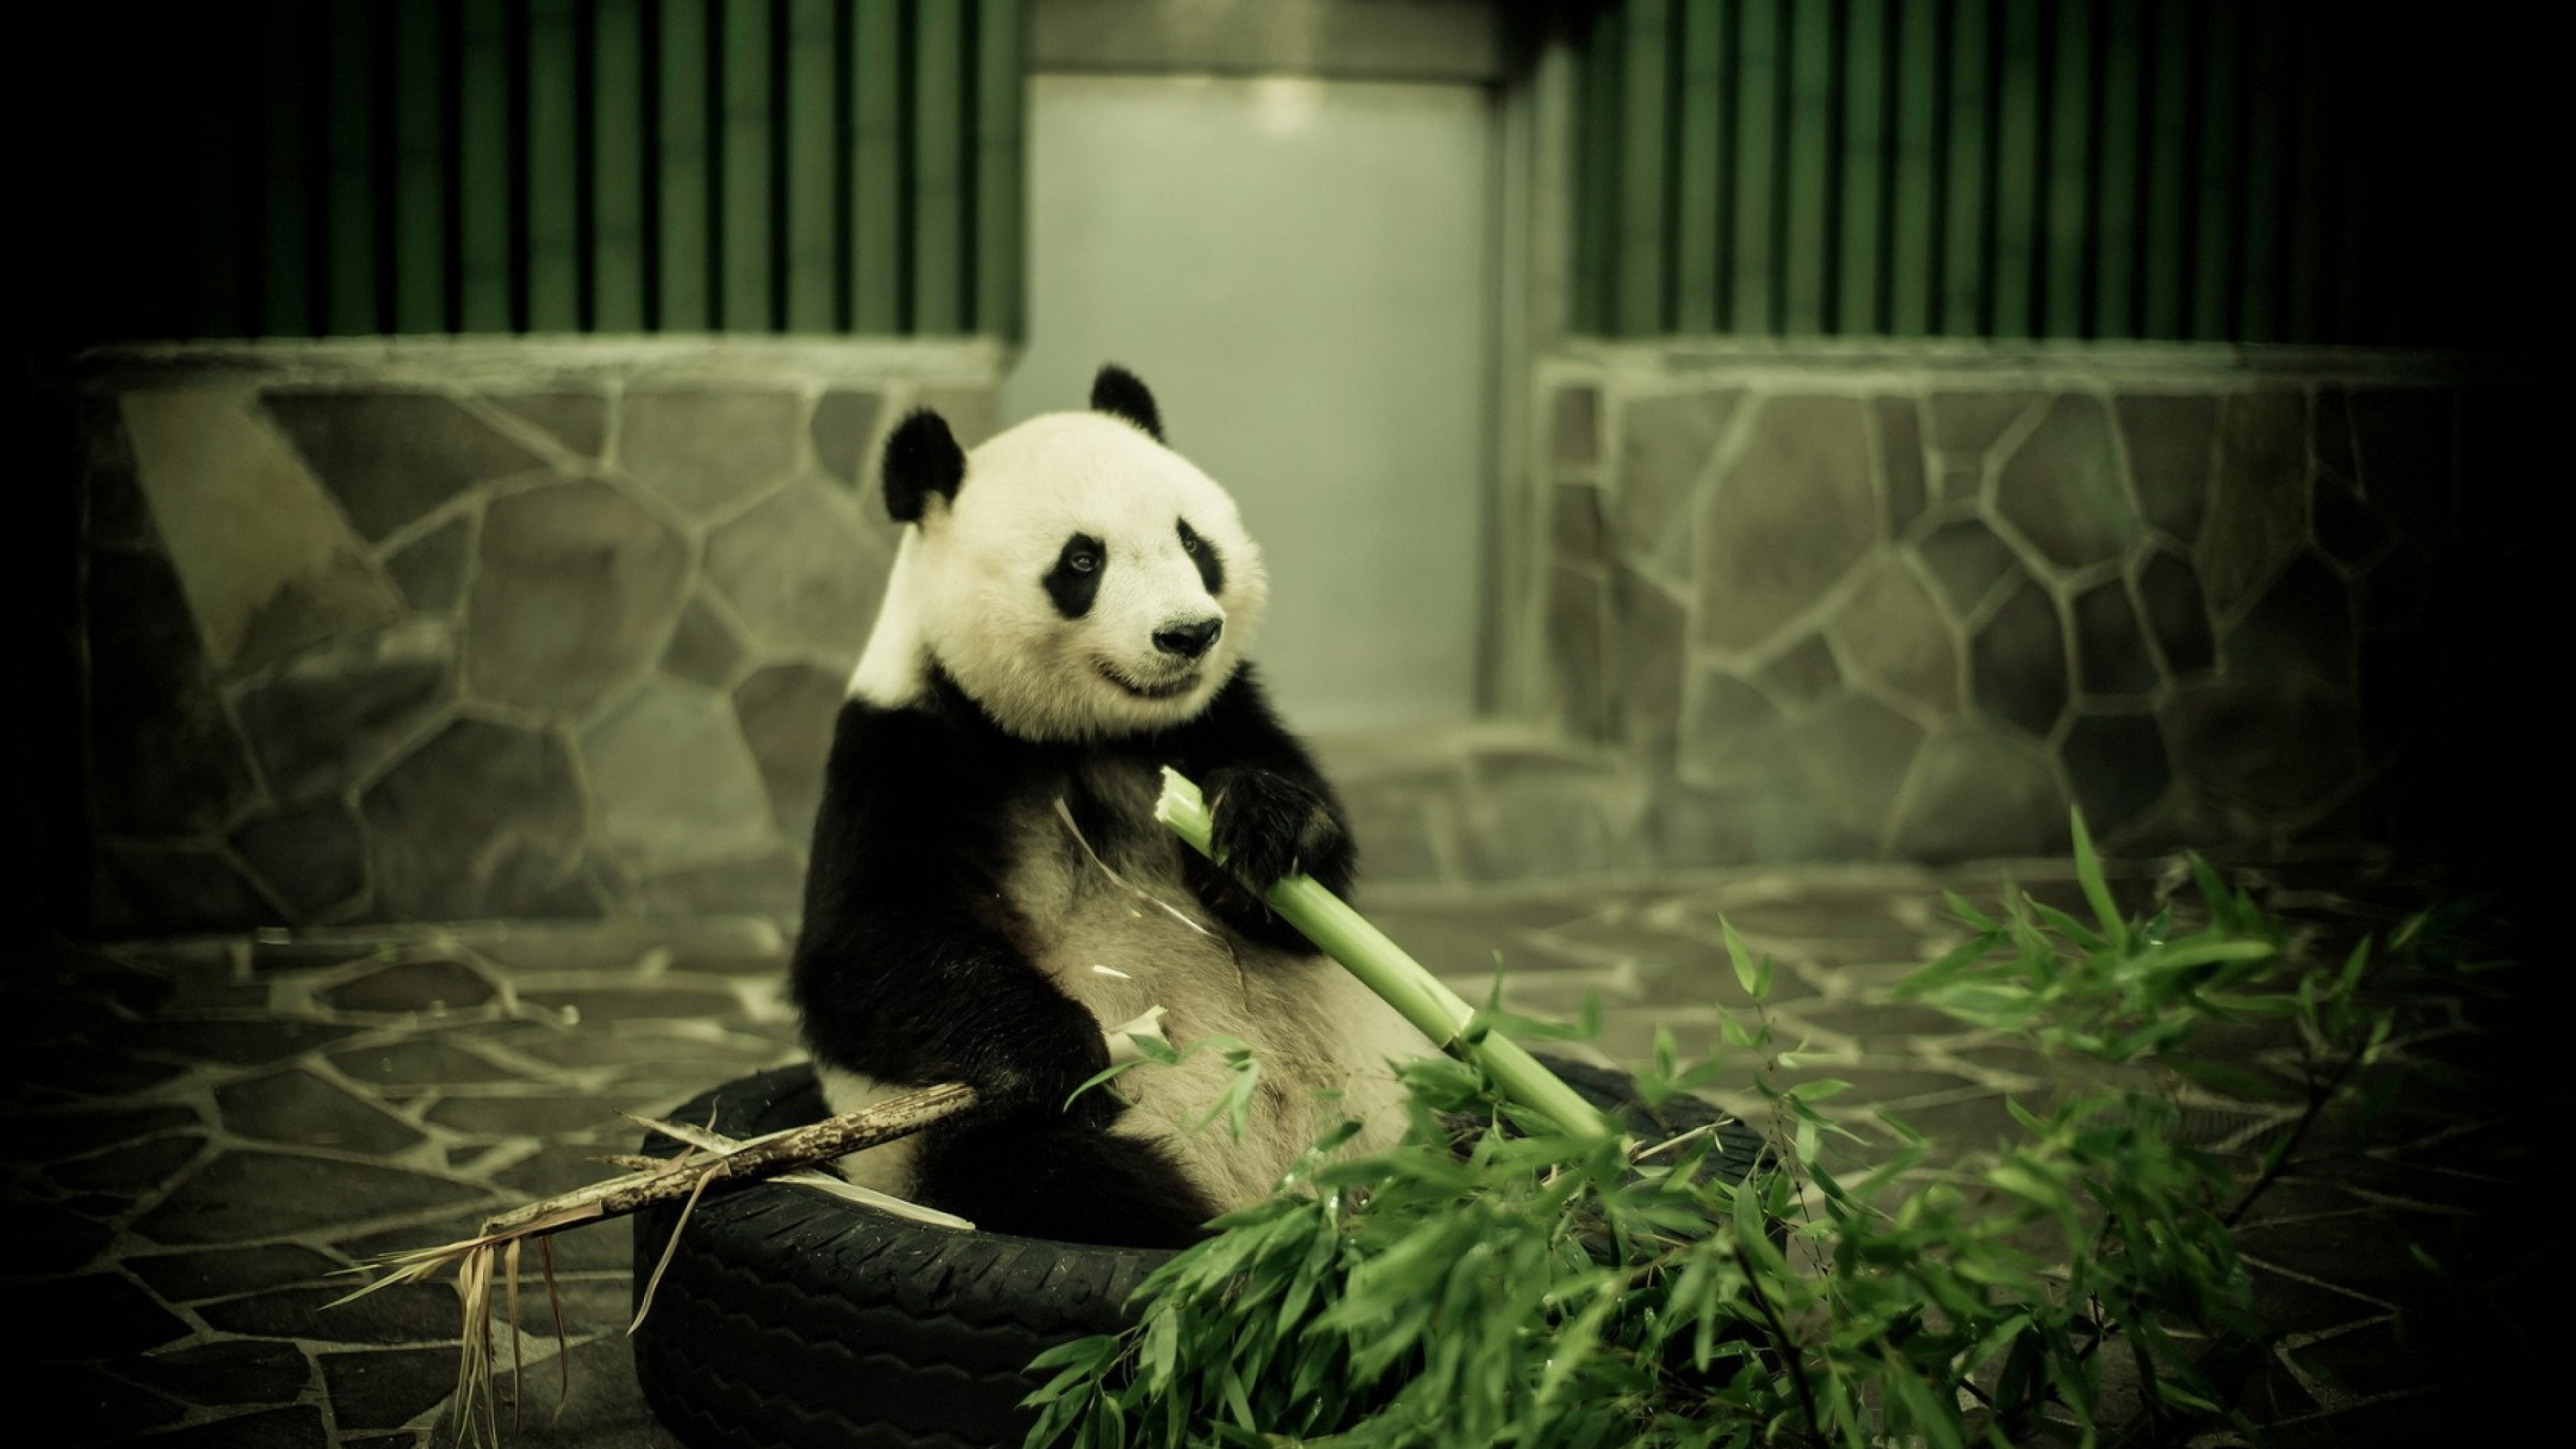panda: (621, 336, 1591, 1265)
